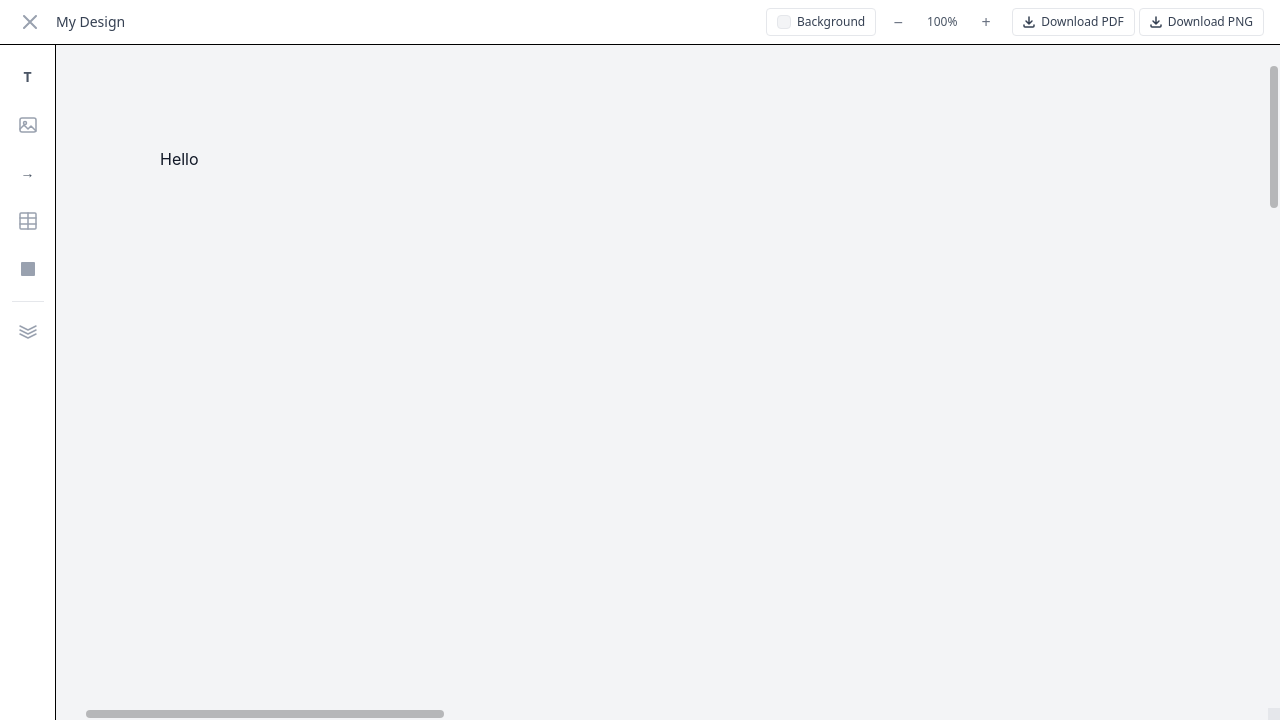
Scenario: AC10 — in-progress state › disables the PDF button while the export is in progress
Click the button "Download PDF": (1073, 22) [1012,8,1135,36]
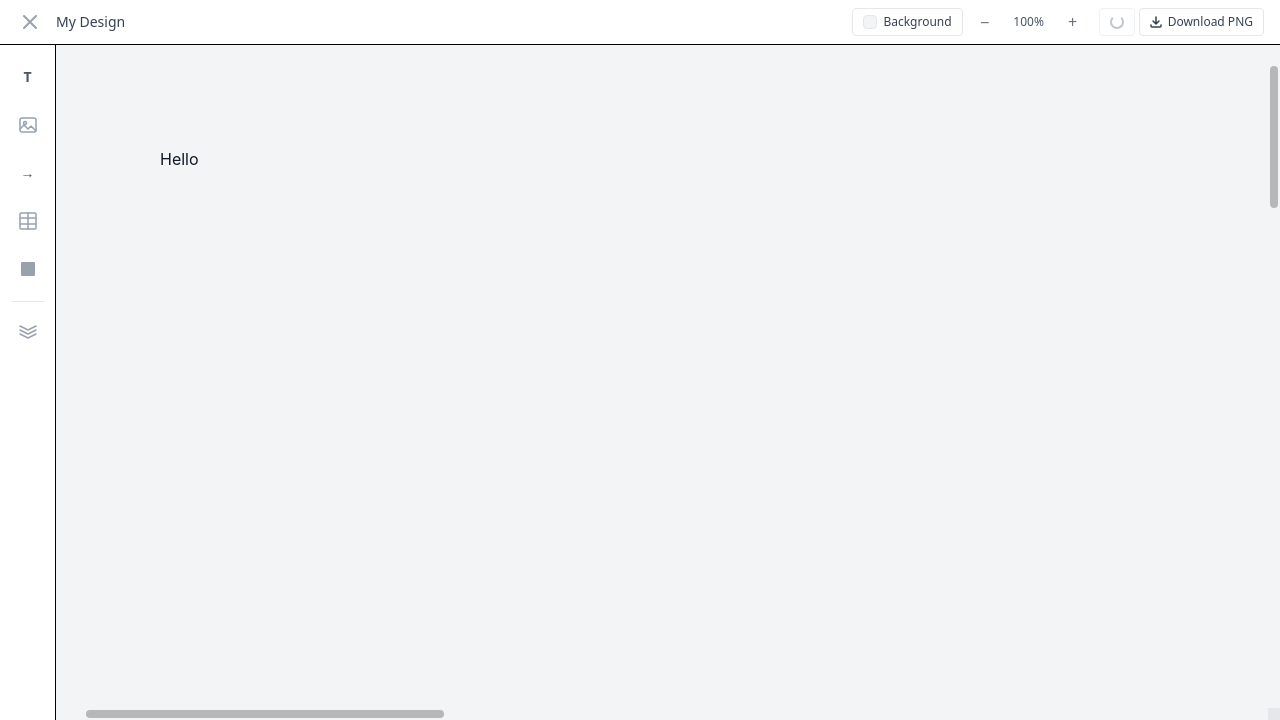
Check: the button named "download pdf" is disabled, box [1099,8,1135,36]
